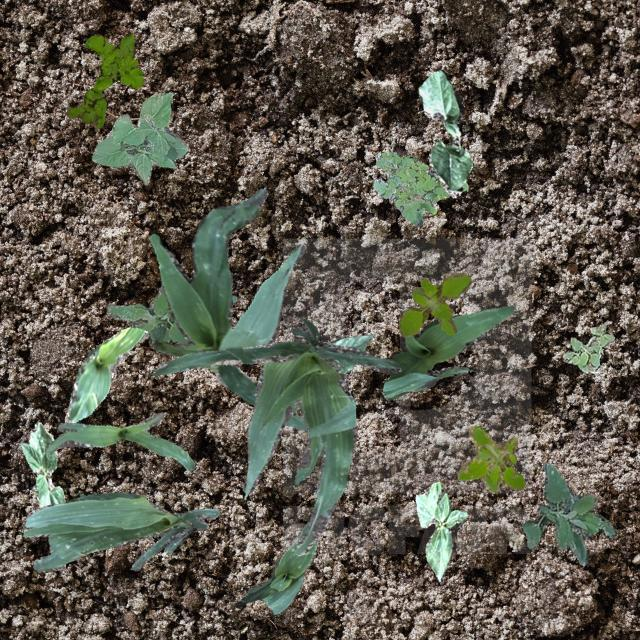crop: (152, 316, 402, 554), (148, 187, 306, 430), (22, 492, 218, 572), (380, 304, 514, 398), (233, 514, 329, 614), (90, 90, 186, 184), (44, 412, 194, 471), (64, 327, 148, 422), (416, 67, 472, 196), (290, 332, 372, 412), (414, 480, 466, 580), (19, 422, 64, 506)
weed: (522, 462, 616, 564), (106, 284, 236, 344), (66, 32, 142, 128), (372, 150, 467, 226), (398, 272, 472, 336), (456, 424, 524, 492), (562, 324, 614, 374)
